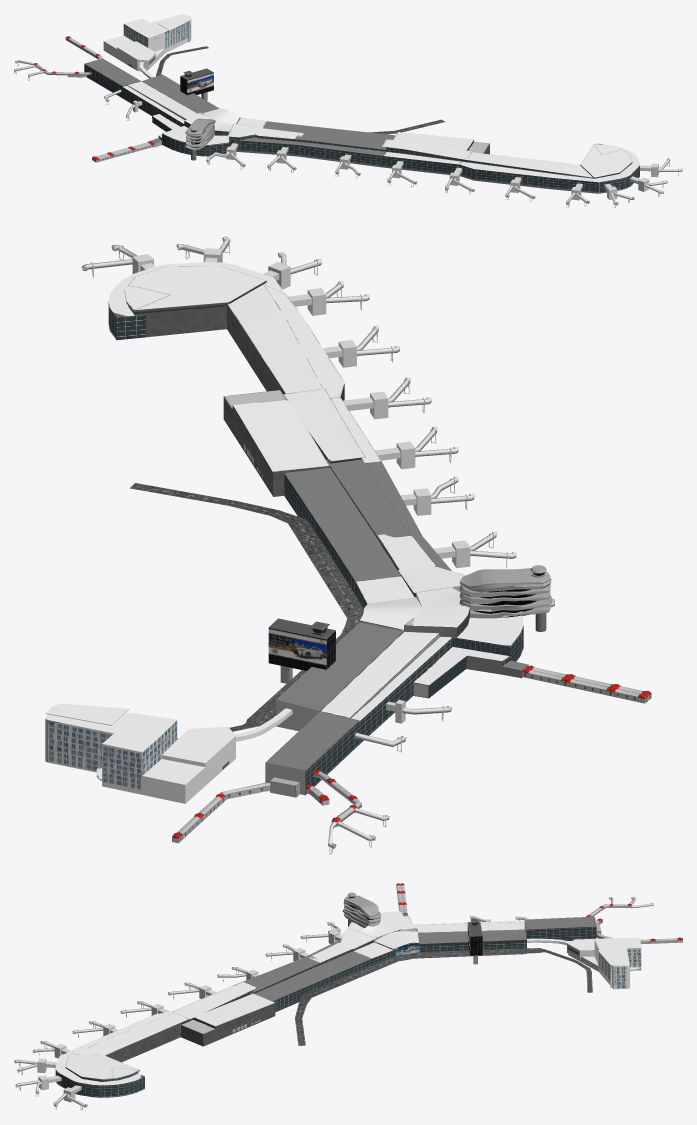
Rendered from CYEG (2).gltf.
The picture shows the model from 3 angles, top to bottom: view 1: azimuth 30°, elevation 25°; view 2: azimuth 150°, elevation 25°; view 3: azimuth 270°, elevation 25°; orthographic projection. The views are drawn at different scales.
Parts seen in each view (by area): view 1: Cube, Cube.048, Cube.001, Cube.050, Cube.002, Cube.041; view 2: Cube, Cube.048, Cube.050, Cube.001, Cube.002, Cube.042, Cube.043; view 3: Cube, Cube.048, Cube.050, Cube.001, Cube.002.
Boxes of the visible parts, <box> form: Cube: <box>84,58,639,193</box>; Cube.048: <box>103,14,191,71</box>; Cube.001: <box>180,68,213,100</box>; Cube.050: <box>156,46,444,134</box>; Cube.002: <box>185,118,215,137</box>; Cube.041: <box>94,142,154,162</box>; Cube: <box>108,262,528,797</box>; Cube.048: <box>45,703,235,803</box>; Cube.050: <box>130,483,363,738</box>; Cube.001: <box>268,618,335,683</box>; Cube.002: <box>459,568,551,592</box>; Cube.042: <box>522,668,648,703</box>; Cube.043: <box>172,783,270,843</box>; Cube: <box>55,911,601,1097</box>; Cube.048: <box>567,937,641,989</box>; Cube.050: <box>295,948,592,1045</box>; Cube.001: <box>467,921,482,964</box>; Cube.002: <box>344,895,378,916</box>.
Size of the model in its own units: 999 by 73.47 by 1256.
